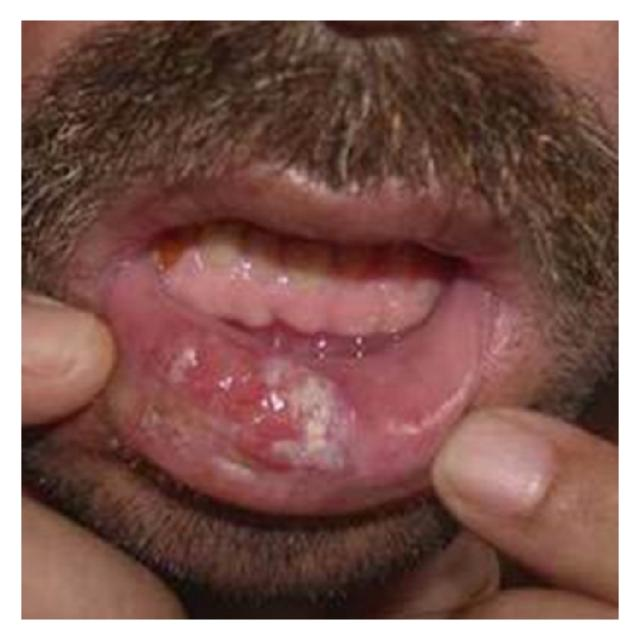Cancer: (94, 244, 410, 520)
